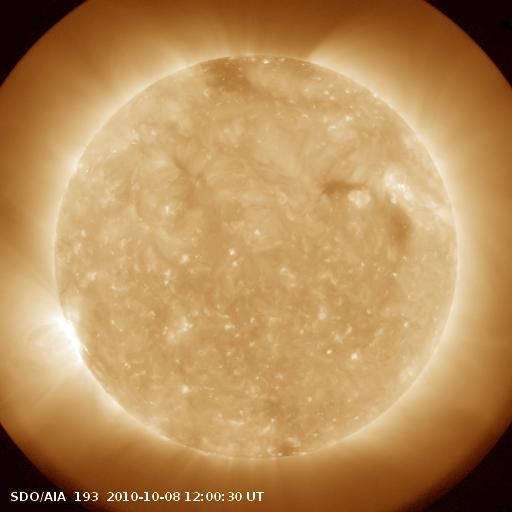coronal_hole: (193, 47, 268, 103), (384, 199, 415, 256), (314, 171, 365, 197)
